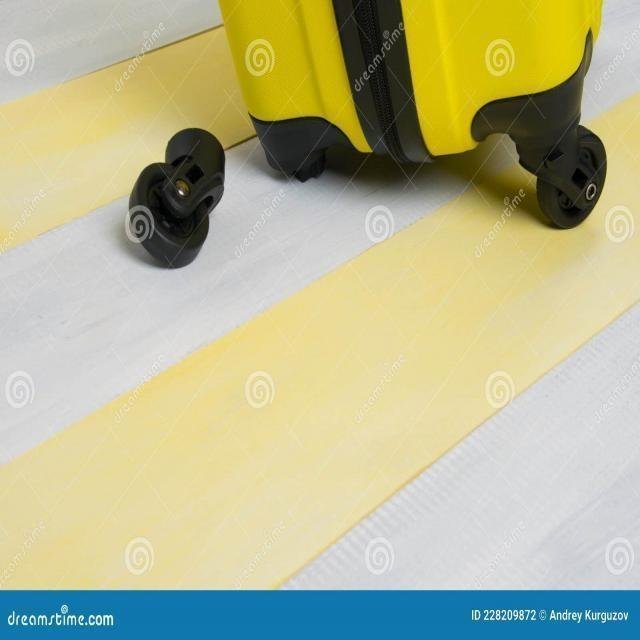Suitcase: (94, 0, 616, 276)
